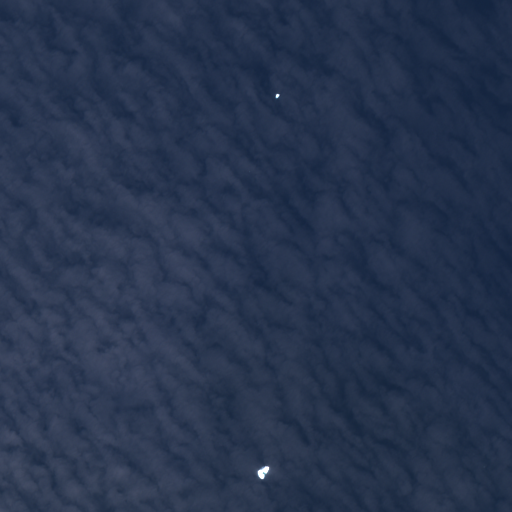Iceberg: (257, 466, 269, 479), (275, 93, 280, 98)
